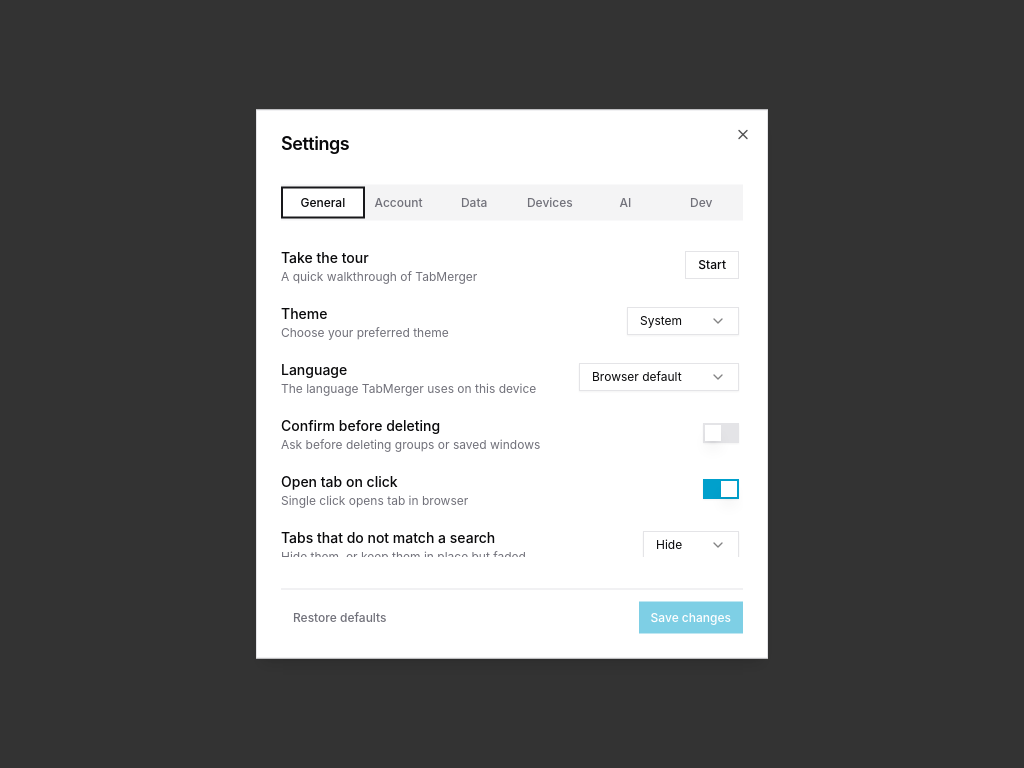
Test case: SettingsModal — AI tab › shows 5 independent per-feature toggles, all on by default, and no master switch
Click the tab "AI" at (626, 202), box [588,190,663,214]
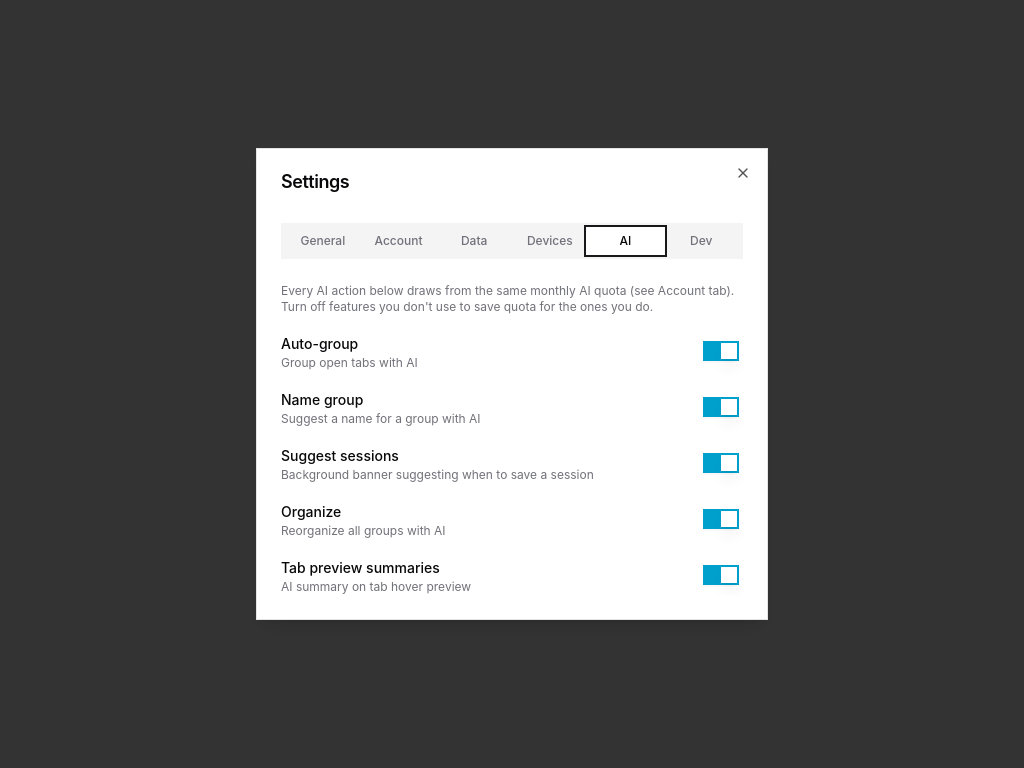
Expected: the text "Auto-group" is shown, [281,335,358,352]
Expected: the text "Name group" is shown, [281,391,363,408]
Expected: the text "Suggest sessions" is shown, [281,447,399,464]
